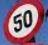Gioi han toc do: (4, 0, 44, 42)
